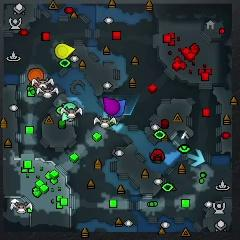p1: (113, 99, 126, 117)
p2: (62, 103, 77, 121)
p3: (103, 97, 120, 115)
p4: (55, 44, 76, 59)
p5: (28, 69, 44, 86)
x3: (188, 149, 205, 167)
